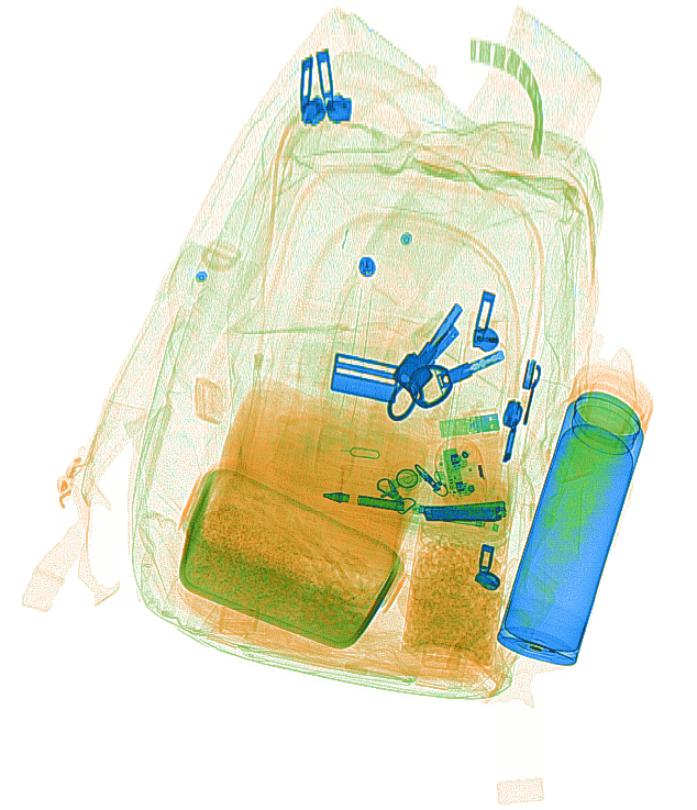USBFlashDisk: (435, 411, 501, 437)
